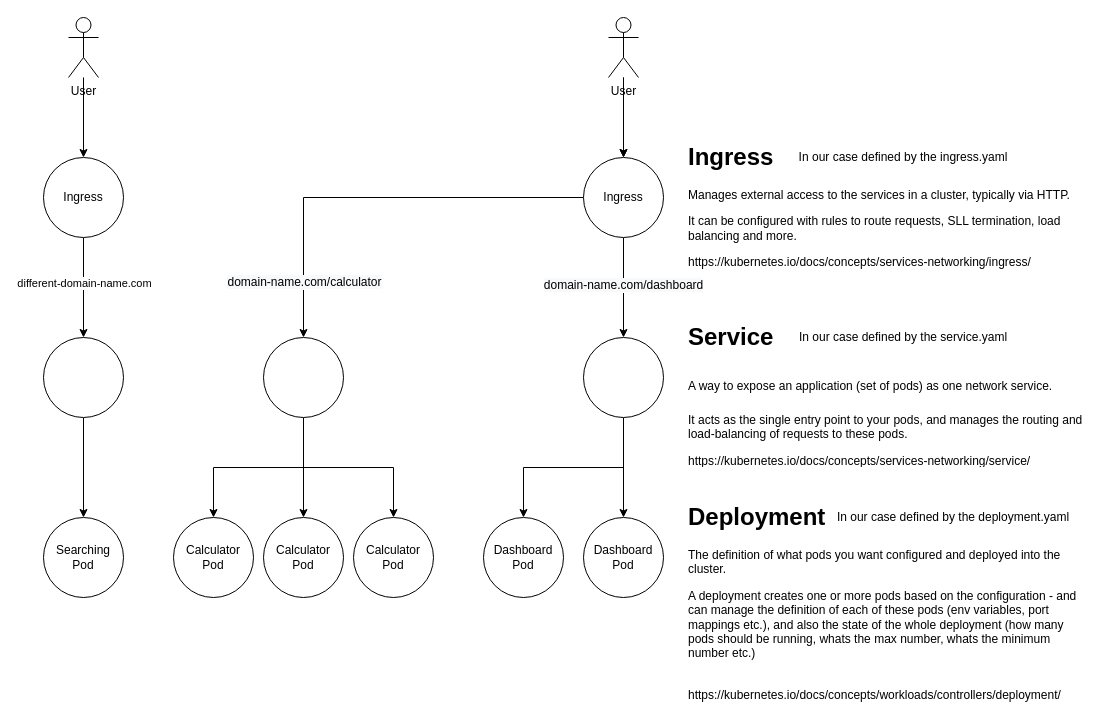
This 1111x725 diagram has some shape labels left out. Each missing label, with the centre of its shape:
"Service (Calculator App)" belongs at (x=303, y=377).
"Service (Dashboard)" belongs at (x=623, y=377).
"Service (Searching App)" belongs at (x=83, y=377).
